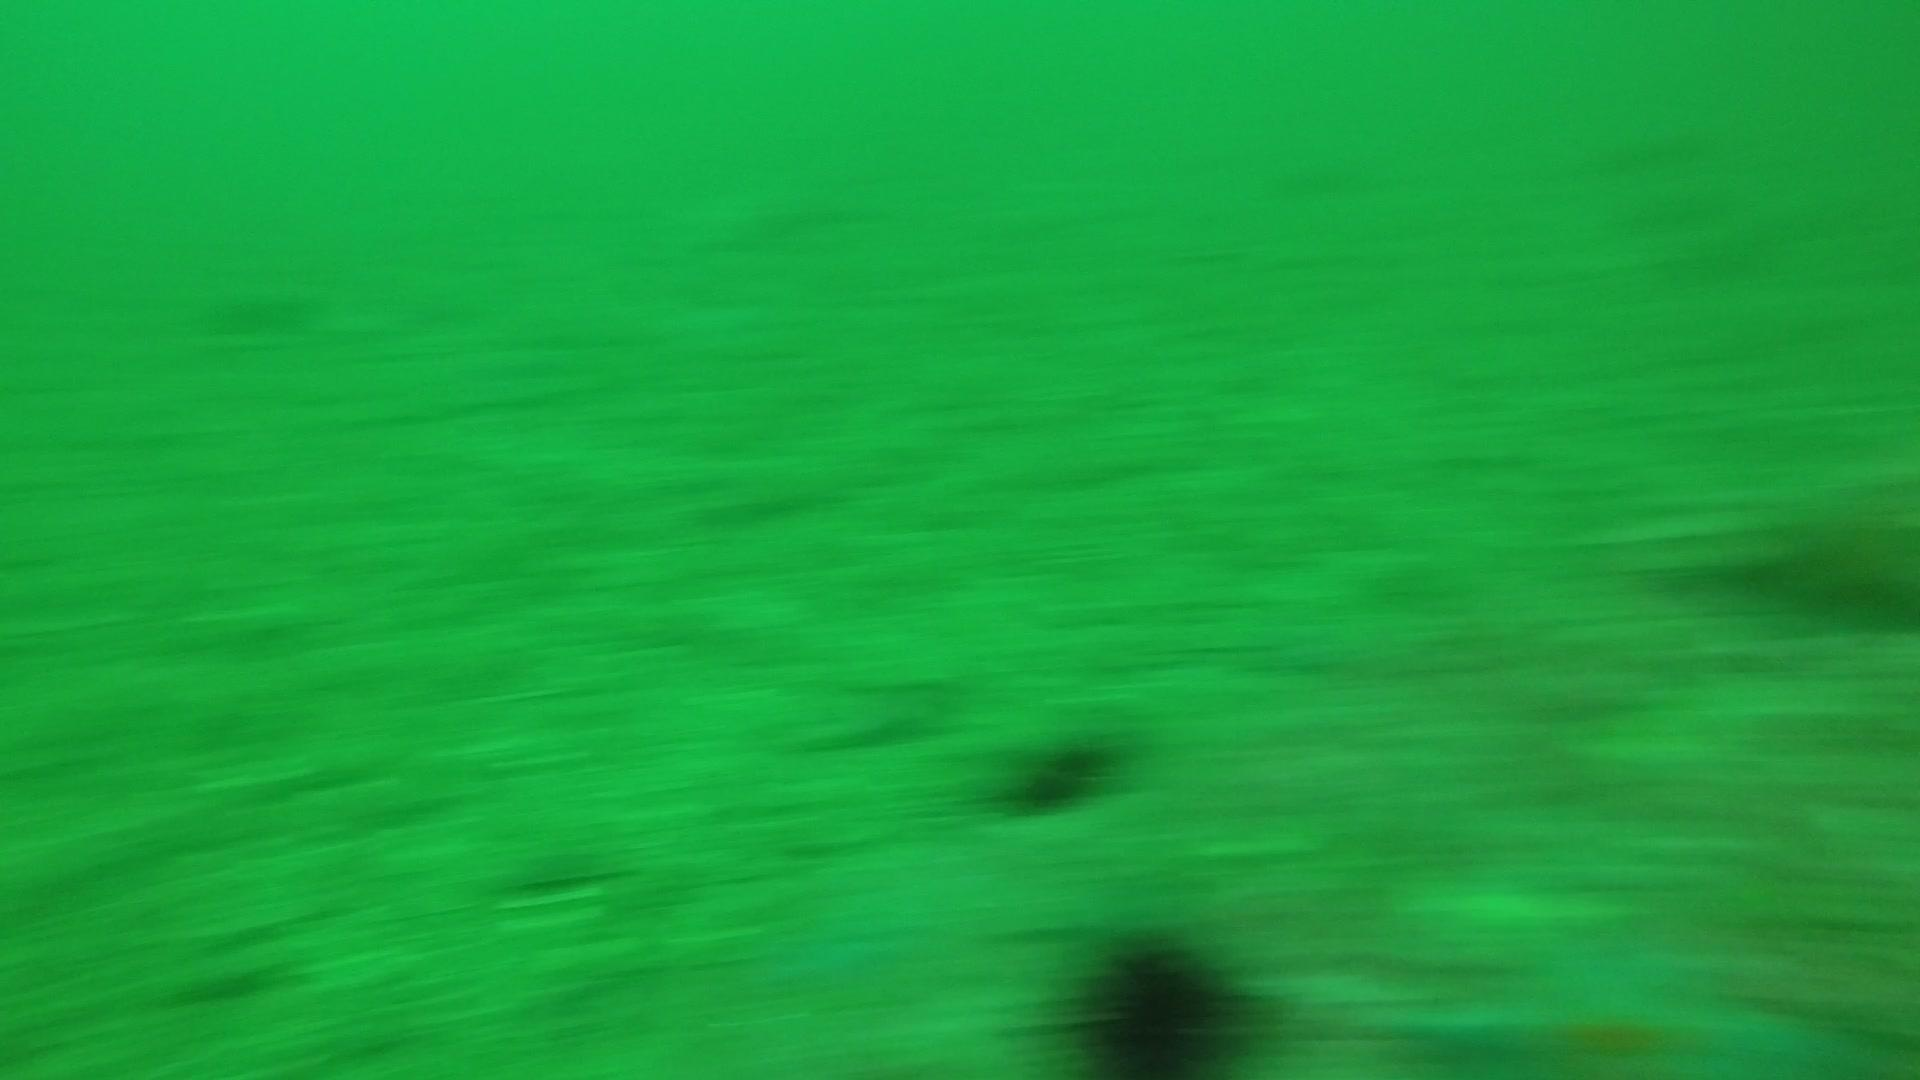echinus: (1062, 924, 1250, 1076), (988, 762, 1073, 822), (1043, 723, 1129, 781)
